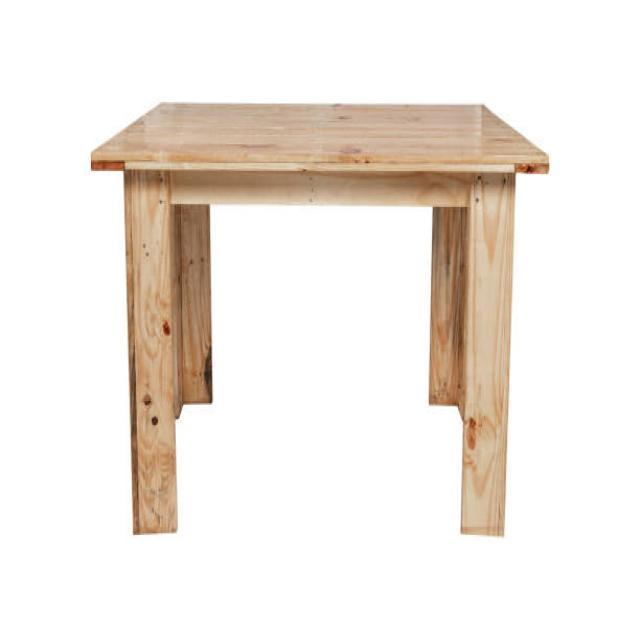table: (90, 99, 549, 538)
